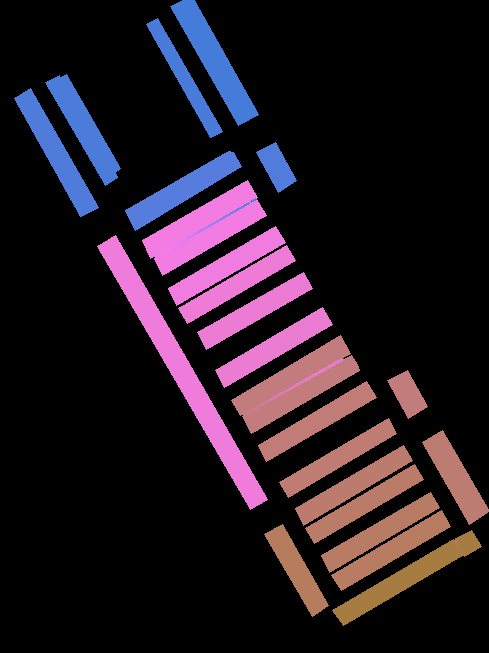parkingspot: (97, 235, 267, 509), (332, 539, 462, 625), (170, 0, 258, 125), (14, 88, 98, 216), (231, 335, 350, 415), (331, 510, 450, 590), (258, 381, 376, 461), (321, 492, 439, 572), (215, 307, 332, 387), (295, 445, 412, 525), (305, 464, 423, 543), (168, 226, 285, 305), (279, 418, 396, 497), (125, 151, 241, 230), (178, 245, 295, 323), (242, 355, 359, 433), (146, 18, 222, 137), (142, 180, 257, 258), (197, 272, 312, 349), (154, 199, 266, 275), (45, 74, 120, 185), (422, 430, 489, 524), (264, 524, 328, 616), (256, 142, 296, 192), (387, 370, 427, 418), (455, 530, 481, 556)
